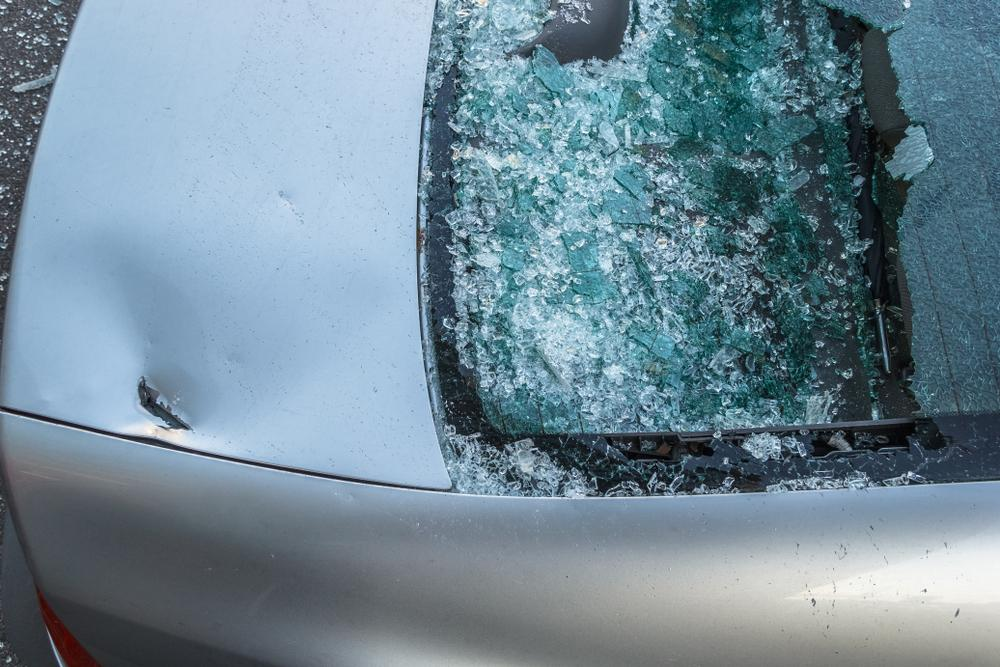crack: (137, 377, 190, 432)
dent: (17, 223, 213, 434)
glass shatter: (417, 0, 1000, 497)
